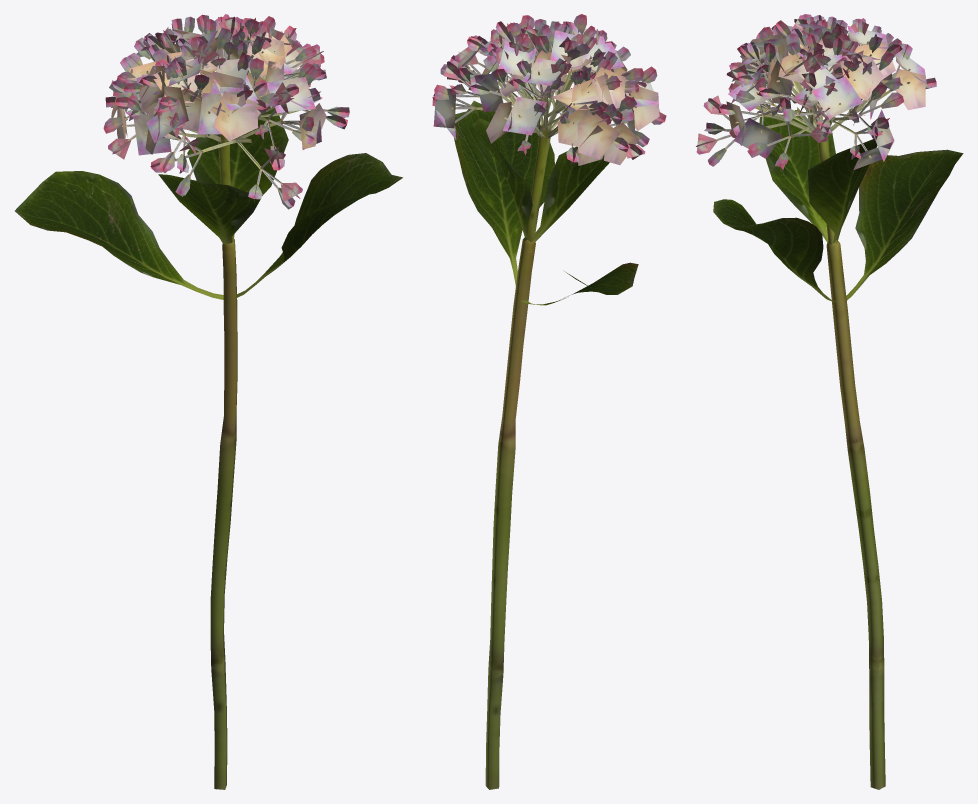
Rendered from Hydrangea_baby_normal_red.glb.
3 views of the same model, side by side, from view 1: azimuth 30°, elevation 25°; view 2: azimuth 150°, elevation 25°; view 3: azimuth 270°, elevation 25° (orthographic). The views are drawn at different scales.
Parts seen in each view (by area): view 1: BABY; view 2: BABY; view 3: BABY.
Boxes of the visible parts, x1,y1,x2,y2 form: BABY: (15,14,402,789); BABY: (432,14,666,789); BABY: (696,14,963,789).
Bounding box in the file's own units: 0.7928 × 2.22 × 0.7195.
Materials: 1 (1 with a texture image).
